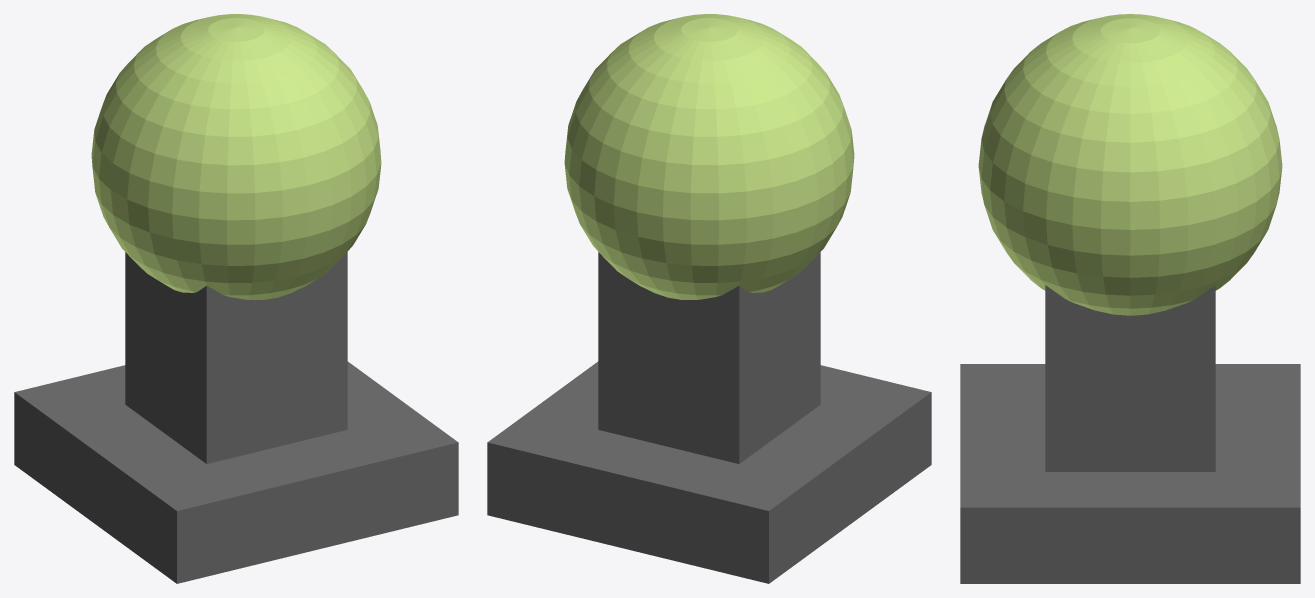
File: Lamp.fbx
3 renders of one model, left to right at view 1: azimuth 30°, elevation 25°; view 2: azimuth 150°, elevation 25°; view 3: azimuth 270°, elevation 25°, orthographic. The views are drawn at different scales.
Parts seen in each view (by area): view 1: Cube, Sphere; view 2: Cube, Sphere; view 3: Cube, Sphere.
Part boxes in pixels (<box>): Cube: <box>14,252,458,583</box>; Sphere: <box>91,14,381,299</box>; Cube: <box>487,252,931,583</box>; Sphere: <box>564,14,854,299</box>; Cube: <box>960,285,1300,583</box>; Sphere: <box>978,14,1282,315</box>.
Size of the model in its own units: 100 by 157 by 100.
